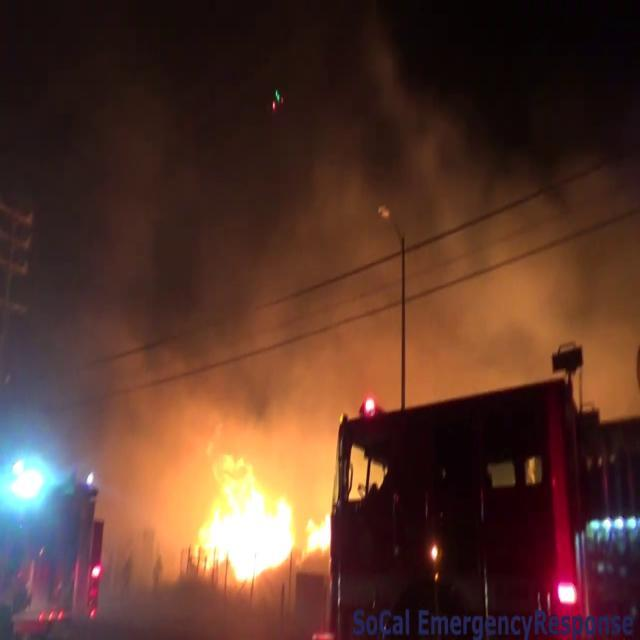Fire: (184, 450, 330, 588)
Smoke: (52, 2, 640, 416)
